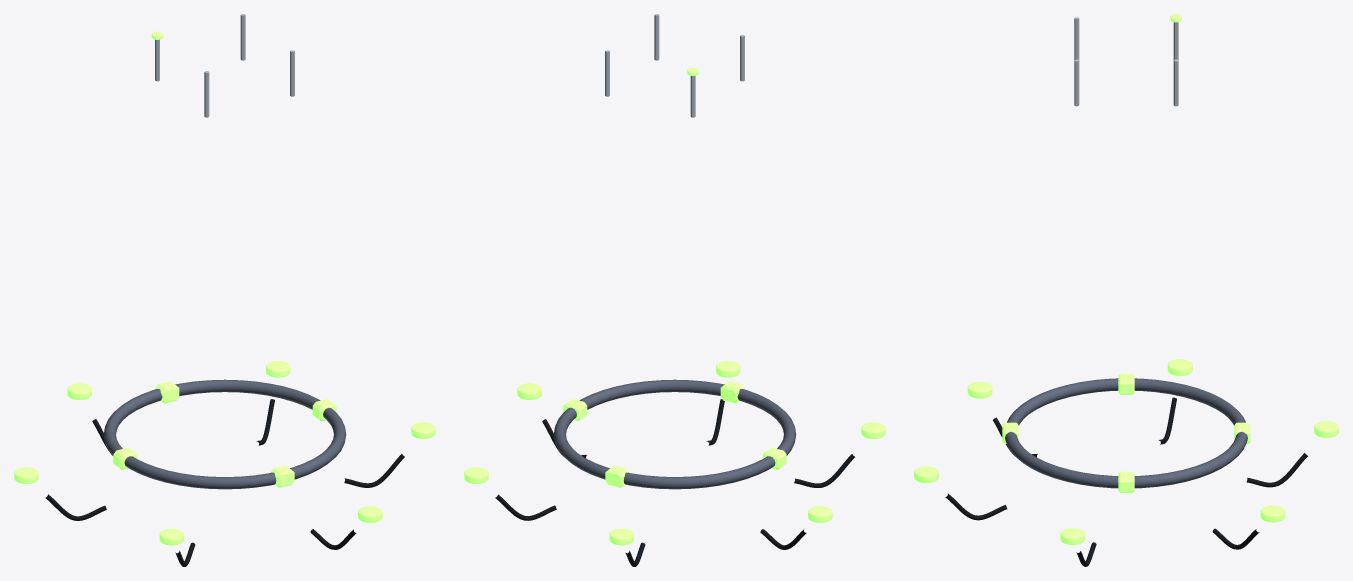
The model's file is tower_detector_field_s4.glb.
The picture shows the model from 3 angles, left to right: view 1: azimuth 30°, elevation 25°; view 2: azimuth 150°, elevation 25°; view 3: azimuth 270°, elevation 25°; orthographic projection.
Visible parts, largest first — view 1: detector_base_ring; view 2: detector_base_ring; view 3: detector_base_ring.
Boxes of the visible parts, x1,y1,x2,y2 form: detector_base_ring: (103, 379, 346, 489); detector_base_ring: (553, 379, 796, 489); detector_base_ring: (1005, 378, 1247, 488).
Size of what is drawn, in the model's own units: 2.05 by 2.48 by 2.05.
